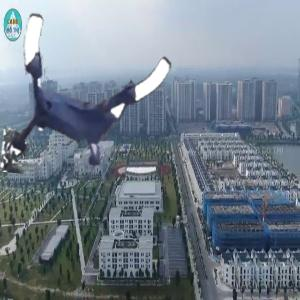drone: (7, 18, 171, 182)
